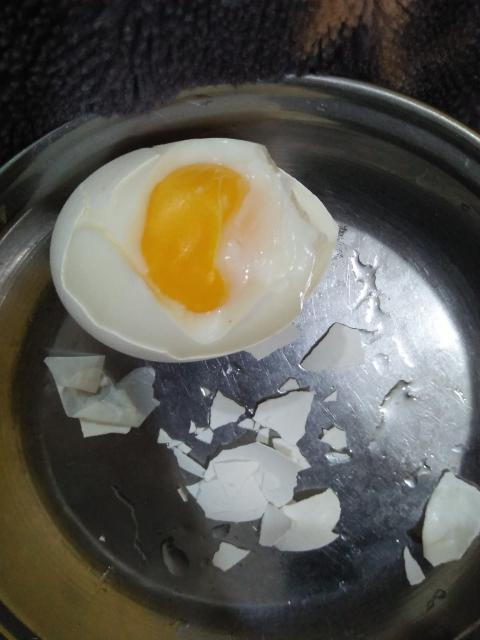Roto: (48, 135, 340, 363)
